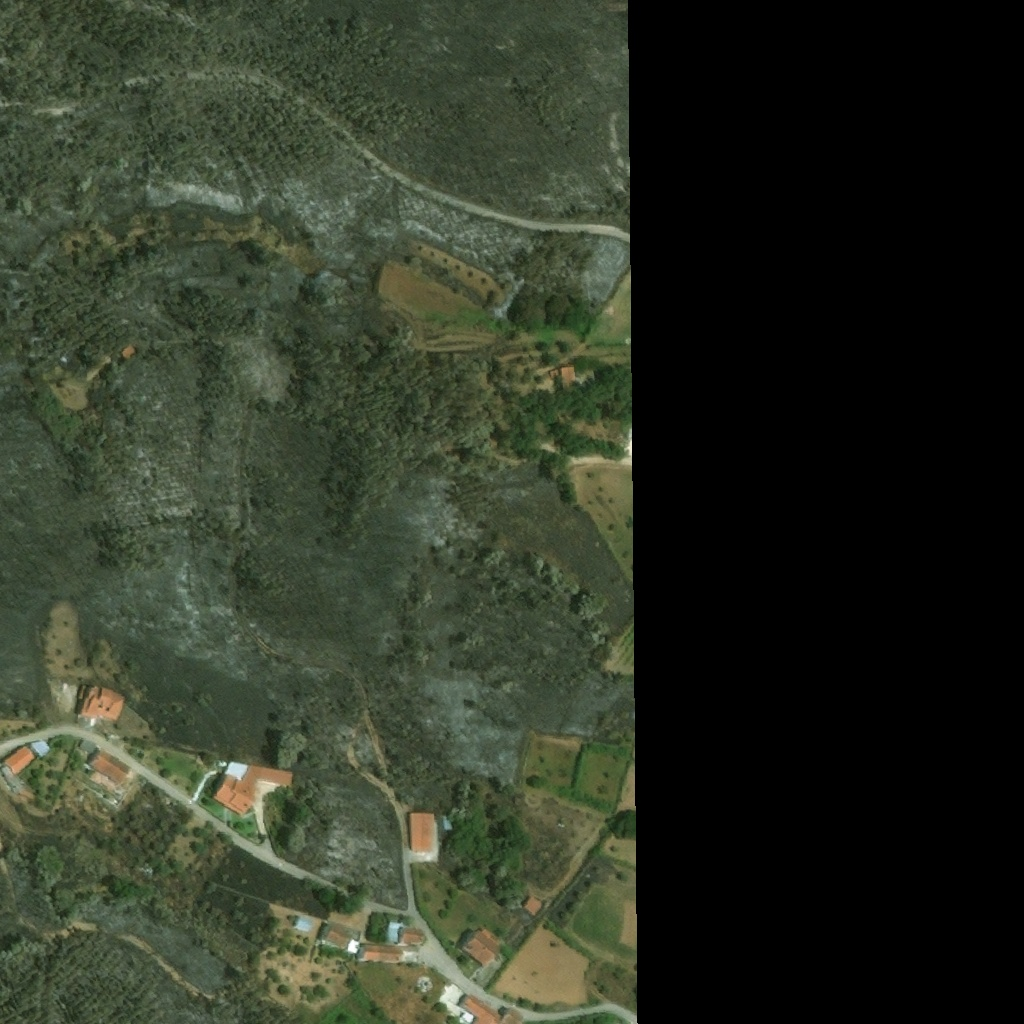0 no-damage: (211, 765, 262, 817), (78, 684, 126, 722), (461, 927, 501, 968), (90, 749, 132, 786), (456, 995, 503, 1023), (409, 813, 436, 853), (5, 747, 36, 774), (323, 927, 351, 951), (362, 946, 403, 962), (385, 921, 409, 944), (522, 898, 542, 918), (558, 367, 575, 389), (401, 929, 422, 944), (32, 742, 51, 757), (295, 918, 312, 933), (347, 937, 360, 955), (119, 348, 133, 360), (442, 815, 452, 831), (549, 371, 559, 382)
3 destroyed: (88, 779, 110, 796)
4 un-classified: (500, 1013, 519, 1023)
